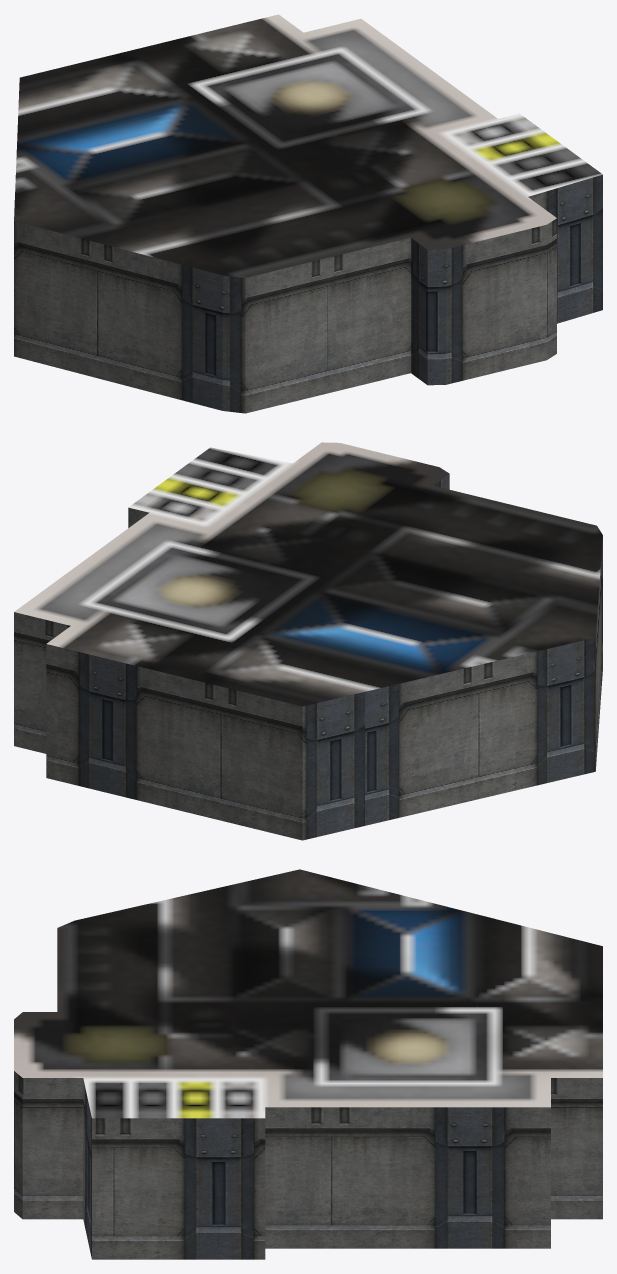
Rendered from BuildingSystem-03-Advance-03-Heavy-3-41-06.glb.
3 renders of one model, top to bottom at view 1: azimuth 30°, elevation 25°; view 2: azimuth 150°, elevation 25°; view 3: azimuth 270°, elevation 25°, orthographic. The views are drawn at different scales.
Parts seen in each view (by area): view 1: buildings/saxarba/SMV_Buildings/BuildingSystem-03-Advance-03; view 2: buildings/saxarba/SMV_Buildings/BuildingSystem-03-Advance-03; view 3: buildings/saxarba/SMV_Buildings/BuildingSystem-03-Advance-03.
Part boxes in pixels (<box>): buildings/saxarba/SMV_Buildings/BuildingSystem-03-Advance-03: <box>14,14,602,413</box>; buildings/saxarba/SMV_Buildings/BuildingSystem-03-Advance-03: <box>14,442,602,840</box>; buildings/saxarba/SMV_Buildings/BuildingSystem-03-Advance-03: <box>14,869,602,1259</box>.
Size of the model in its own units: 68 by 18 by 68.
